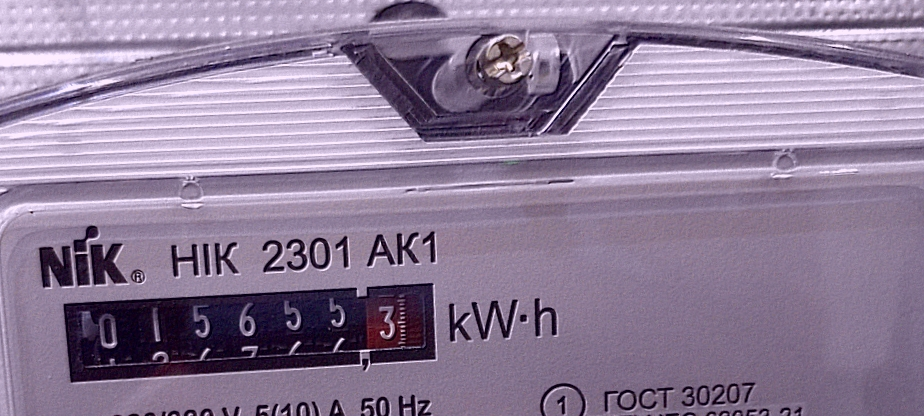0: (94, 309, 121, 351)
1: (146, 305, 167, 345)
3: (376, 303, 397, 340)
5: (188, 303, 214, 340), (280, 299, 305, 332), (327, 296, 348, 329)
6: (234, 301, 260, 338)
screen: (48, 263, 453, 400)
